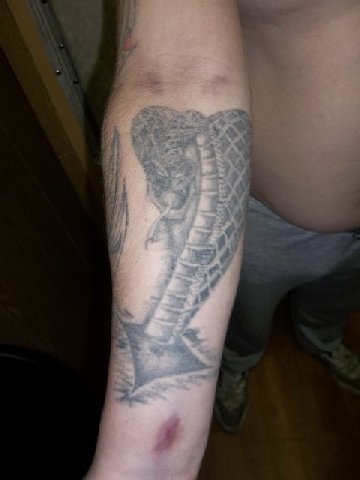tatu7_zmeya: (111, 90, 271, 422)
